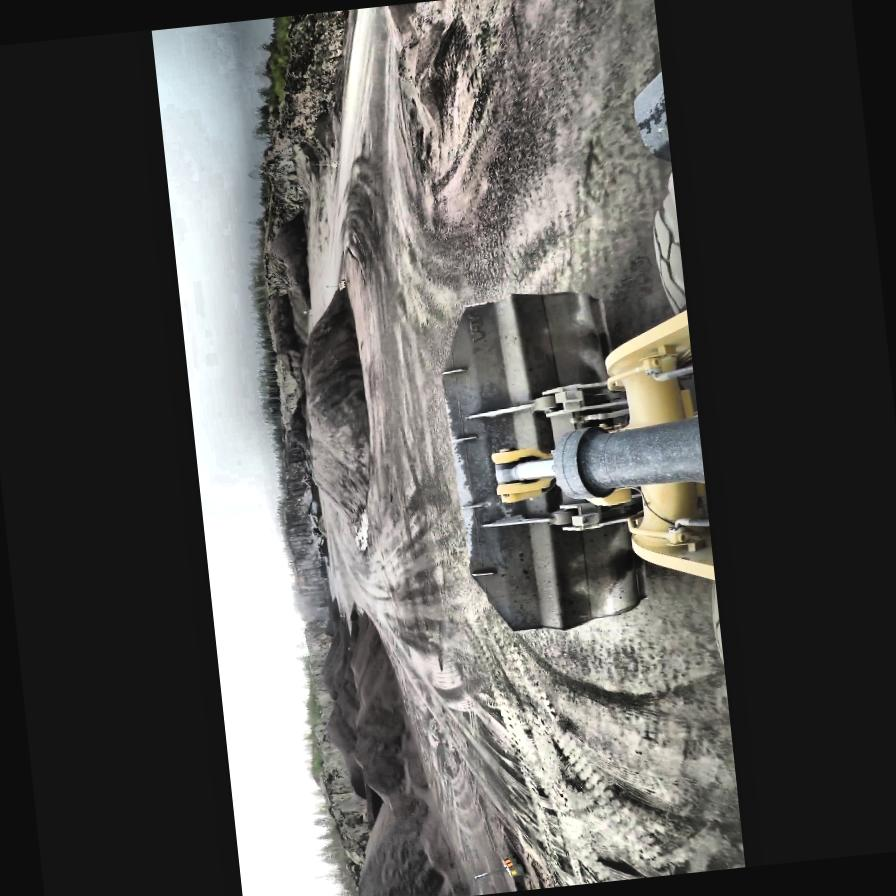anchor: (490, 440, 559, 500)
pile of gravel: (303, 588, 473, 896), (292, 282, 380, 528), (264, 211, 316, 321), (320, 688, 368, 798), (314, 608, 356, 700), (282, 389, 310, 454), (320, 600, 342, 638), (315, 535, 329, 568)
